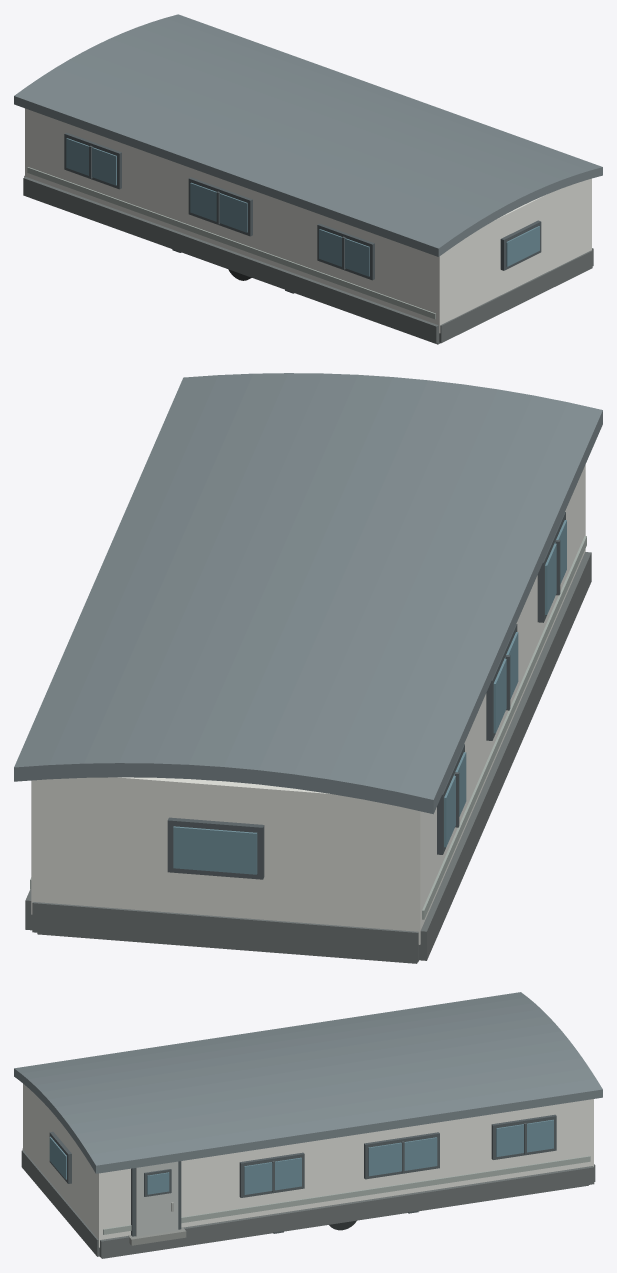
The picture shows the model from 3 angles, top to bottom: view 1: azimuth 30°, elevation 25°; view 2: azimuth 150°, elevation 25°; view 3: azimuth 270°, elevation 25°; orthographic projection. The views are drawn at different scales.
Visible parts, largest first — view 1: shallow_crowned_roof, main_caravan_body, lower_side_skirt_negative, lower_end_skirt_positive, side_stripe_negative, negative_side_window_2_glass, negative_side_window_1_glass, negative_side_window_3_glass, front_end_window_glass, negative_side_window_2_frame, negative_side_window_3_frame, negative_side_window_1_frame (+1 smaller); view 2: shallow_crowned_roof, main_caravan_body, lower_end_skirt_negative, lower_side_skirt_negative, rear_end_window_glass, side_stripe_negative, rear_end_window_frame, negative_side_window_2_glass, negative_side_window_1_glass, negative_side_window_3_glass, underframe_main; view 3: shallow_crowned_roof, main_caravan_body, lower_side_skirt_positive, side_stripe_positive, entrance_door_panel, positive_side_window_2_glass, positive_side_window_3_glass, positive_side_window_1_glass, lower_end_skirt_positive, positive_side_window_2_frame, positive_side_window_3_frame, positive_side_window_1_frame (+5 smaller).
Part boxes in pixels (box(x1,y1,x2,y2)): shallow_crowned_roof: box(14, 14, 602, 256); main_caravan_body: box(25, 108, 591, 333); lower_side_skirt_negative: box(23, 177, 439, 343); lower_end_skirt_positive: box(439, 250, 592, 343); side_stripe_negative: box(27, 167, 435, 319); negative_side_window_2_glass: box(190, 182, 247, 232); negative_side_window_1_glass: box(66, 138, 116, 185); negative_side_window_3_glass: box(319, 229, 369, 276); front_end_window_glass: box(506, 226, 539, 266); negative_side_window_2_frame: box(188, 177, 252, 236); negative_side_window_3_frame: box(317, 223, 374, 280); negative_side_window_1_frame: box(64, 132, 121, 189); shallow_crowned_roof: box(14, 373, 602, 814); main_caravan_body: box(31, 465, 585, 944); lower_end_skirt_negative: box(32, 902, 418, 962); lower_side_skirt_negative: box(419, 552, 591, 960); rear_end_window_glass: box(173, 826, 257, 874); side_stripe_negative: box(422, 536, 586, 919); rear_end_window_frame: box(167, 817, 264, 879); negative_side_window_2_glass: box(493, 632, 518, 733); negative_side_window_1_glass: box(444, 752, 466, 847); negative_side_window_3_glass: box(545, 520, 566, 614); underframe_main: box(37, 932, 417, 963); shallow_crowned_roof: box(14, 992, 602, 1173); main_caravan_body: box(23, 1084, 593, 1247); lower_side_skirt_positive: box(99, 1166, 594, 1258); side_stripe_positive: box(103, 1156, 590, 1234); entrance_door_panel: box(136, 1161, 178, 1236); positive_side_window_2_glass: box(368, 1137, 437, 1176); positive_side_window_3_glass: box(244, 1157, 301, 1194); positive_side_window_1_glass: box(496, 1119, 553, 1156); lower_end_skirt_positive: box(21, 1150, 99, 1256); positive_side_window_2_frame: box(364, 1132, 439, 1179); positive_side_window_3_frame: box(239, 1152, 304, 1197); positive_side_window_1_frame: box(491, 1114, 556, 1159).
Bounding box in the file's own units: 7.76 × 2.5 × 11.12.
